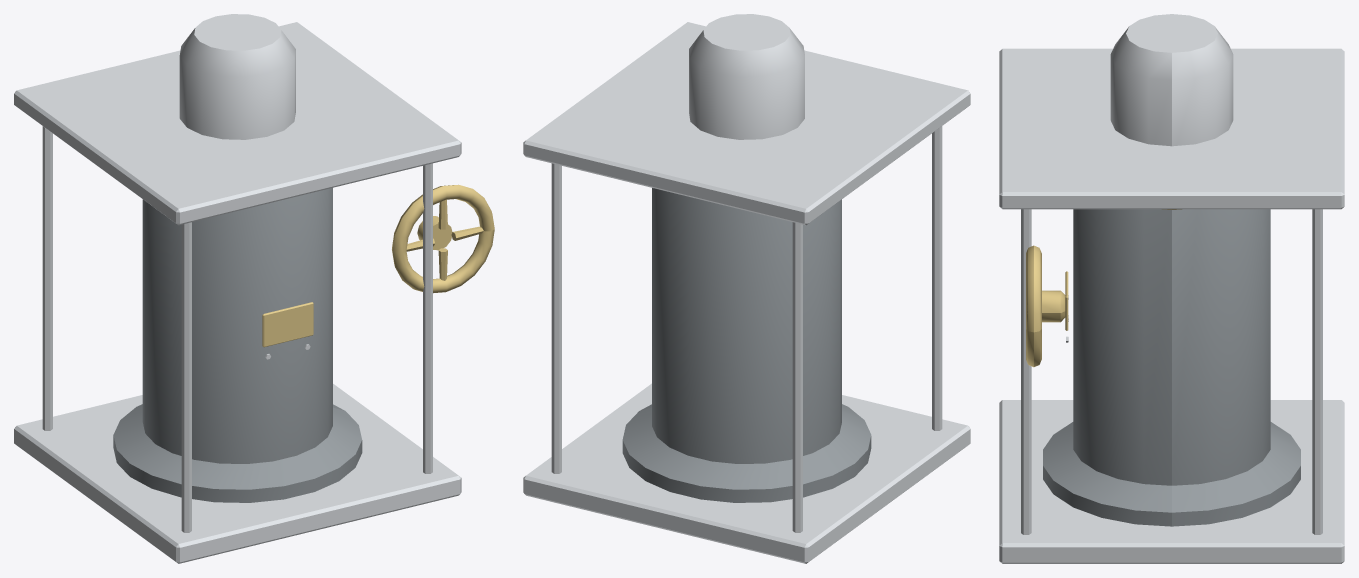
Rendered from submarine-interior-and-control-room-attack-periscope-s-028b30fe__36477.glb.
3 views of the same model, side by side, from view 1: azimuth 30°, elevation 25°; view 2: azimuth 150°, elevation 25°; view 3: azimuth 270°, elevation 25° (orthographic). The views are drawn at different scales.
Visible parts, largest first — view 1: attack-periscope-stand, wheel-hoist; view 2: attack-periscope-stand; view 3: attack-periscope-stand, wheel-hoist.
Boxes of the visible parts, x1,y1,x2,y2 form: attack-periscope-stand: [14, 14, 461, 563]; wheel-hoist: [392, 184, 494, 293]; attack-periscope-stand: [523, 14, 970, 563]; attack-periscope-stand: [999, 14, 1344, 563]; wheel-hoist: [1026, 245, 1065, 367].
Bounding box in the file's own units: 1.05 × 1.32 × 0.9.
